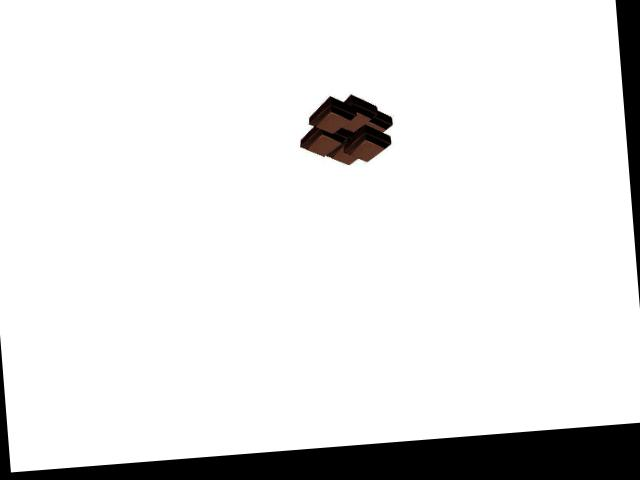chocolate: (298, 94, 398, 171)
